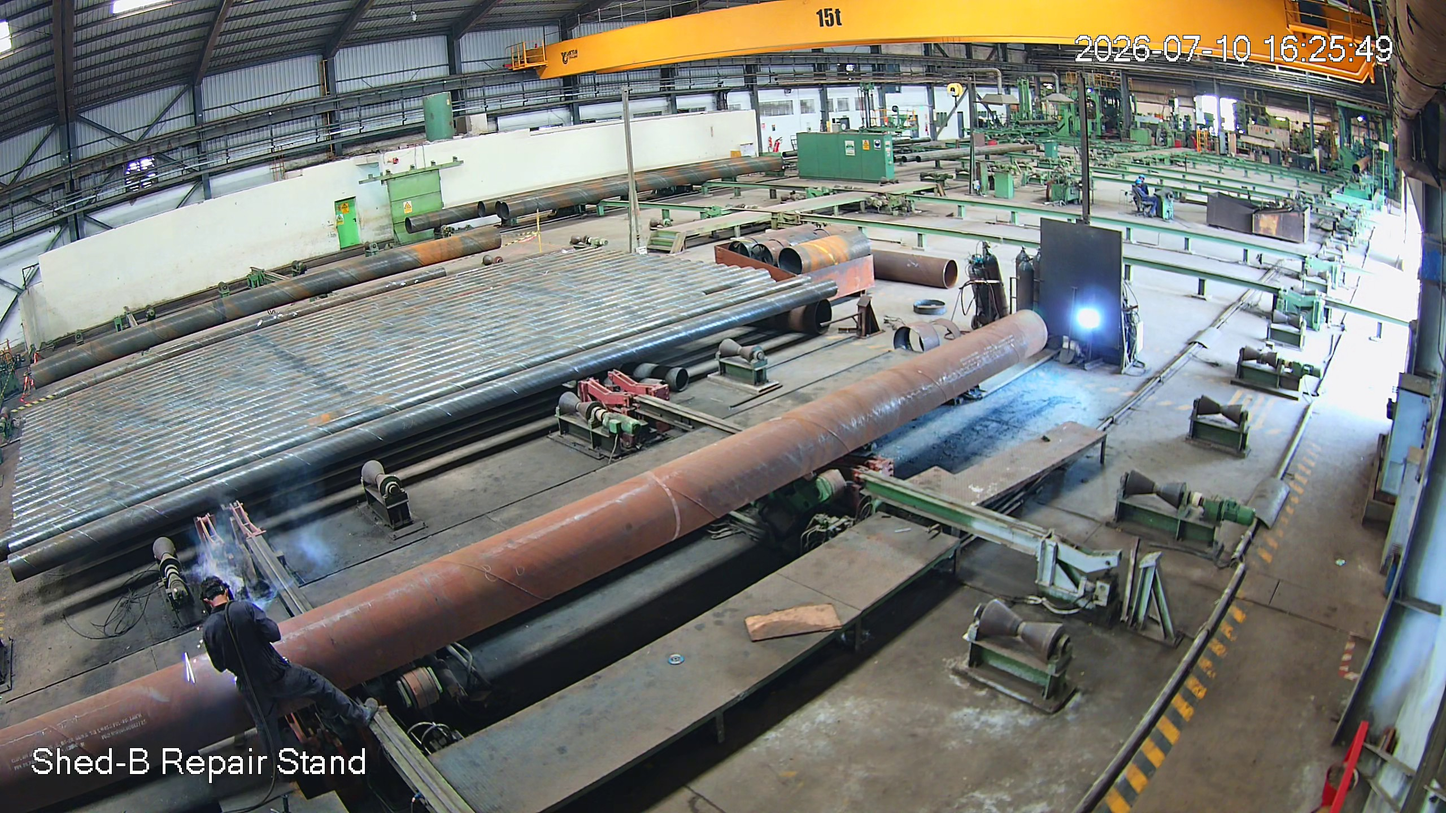Person: (196, 577, 376, 785)
